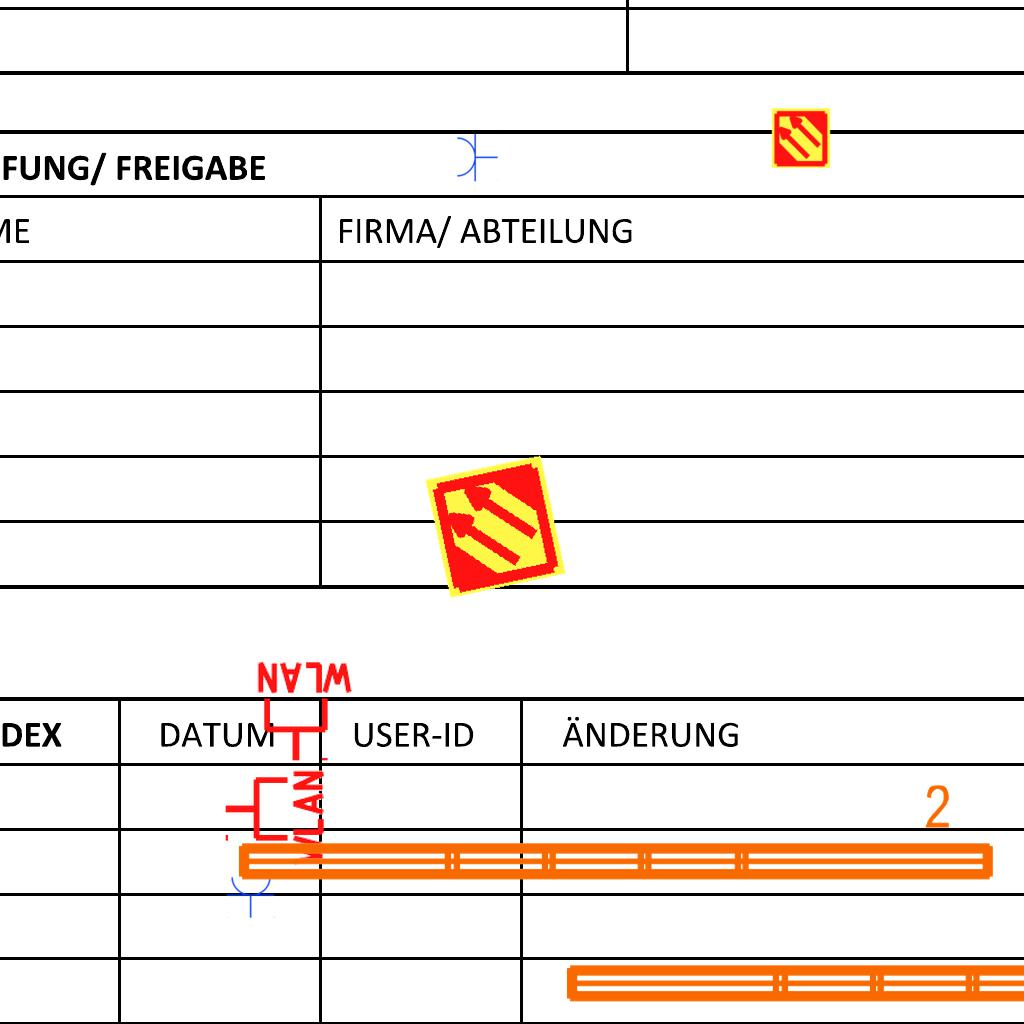ASR_Ansaugrauchmelder: (421, 452, 570, 601), (770, 107, 832, 169)
Ambulanz_Pendelleuchte_LED: (228, 780, 1002, 892), (556, 902, 1024, 1014)
Schukosteckdose_einfach: (226, 875, 276, 918), (455, 132, 498, 182)
WLAN: (221, 766, 326, 870), (253, 660, 357, 765)
